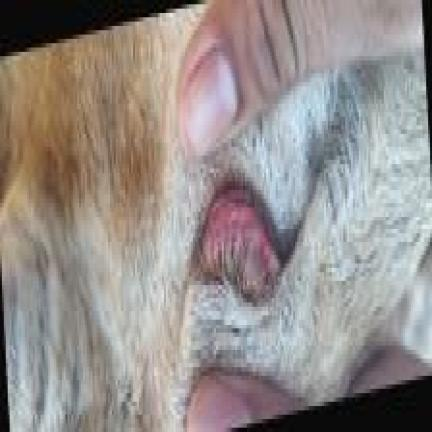goat-eye-anemia-22222222: (201, 186, 280, 298)
